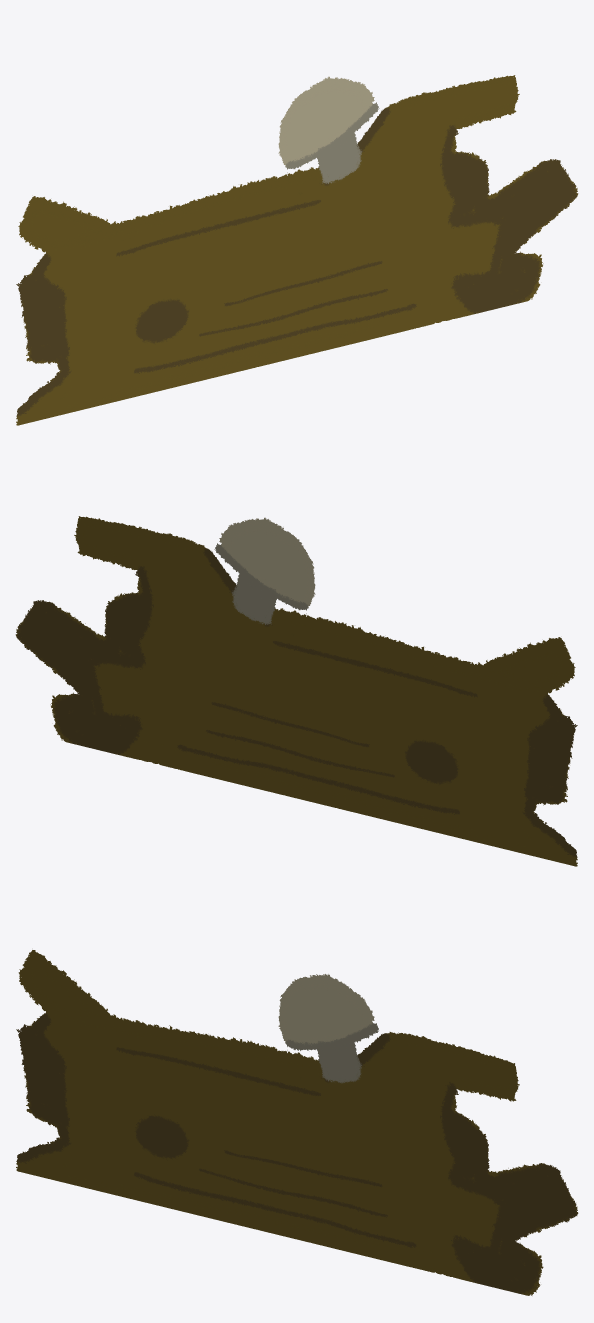
File: Lay_Tree_Mushroom.fbx
3 renders of one model, top to bottom at view 1: azimuth 30°, elevation 25°; view 2: azimuth 150°, elevation 25°; view 3: azimuth 330°, elevation 25°, orthographic.
Visible parts, largest first — view 1: 平面; view 2: 平面; view 3: 平面.
Part boxes in pixels (left/top/right/bottom): 平面: left=16, top=75, right=578, bottom=425; 平面: left=15, top=516, right=577, bottom=866; 平面: left=16, top=950, right=578, bottom=1295.
Bounding box in the file's own units: 954 × 442 × 1.25e-13.
1 material, 1 textured.
